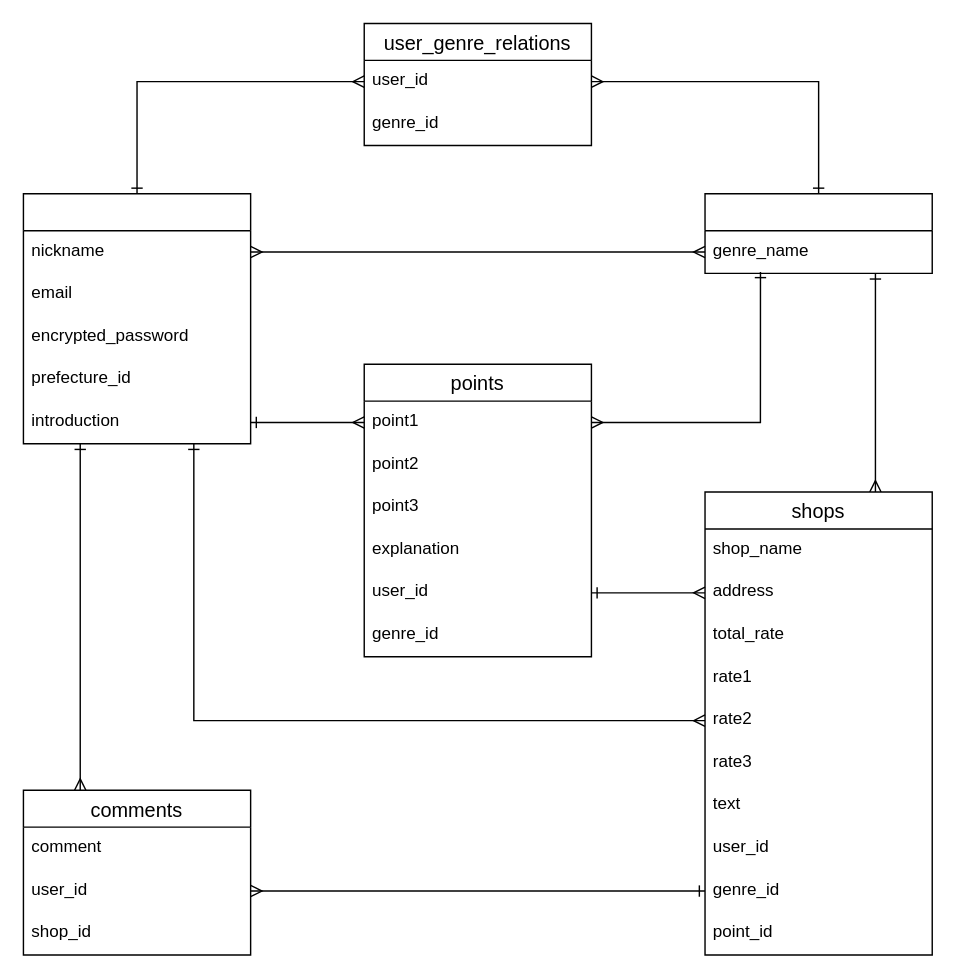
This 956x978 diagram has some shape labels left out. Each missing label, with the box of its shape:
genres: (704, 192, 932, 273)
users: (22, 192, 251, 444)
